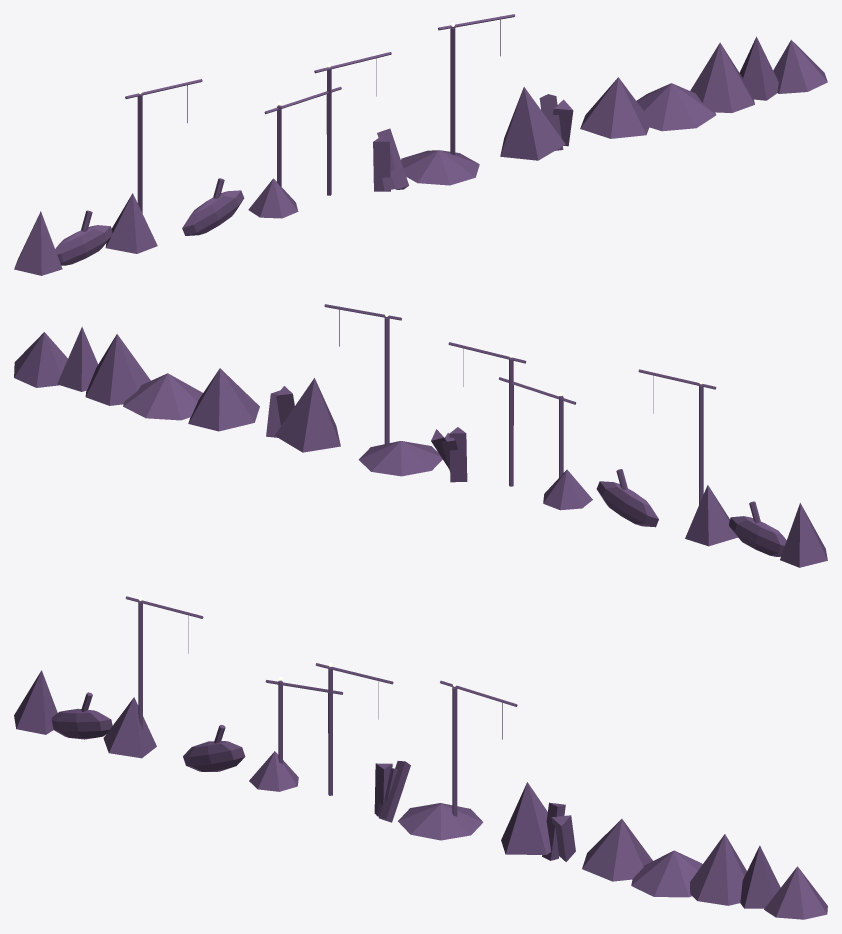
File: env_skyline.glb
3 renders of one model, top to bottom at view 1: azimuth 30°, elevation 25°; view 2: azimuth 150°, elevation 25°; view 3: azimuth 330°, elevation 25°, orthographic.
Parts seen in each view (by area): view 1: env_skyline; view 2: env_skyline; view 3: env_skyline.
Part boxes in pixels (left/top/right/bottom): env_skyline: left=14, top=14, right=827, bottom=275; env_skyline: left=14, top=304, right=827, bottom=567; env_skyline: left=14, top=596, right=827, bottom=919.
Size of the model in its own units: 170 by 32.11 by 16.69.
